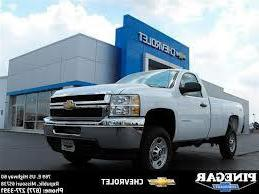Car: (32, 64, 252, 175)
